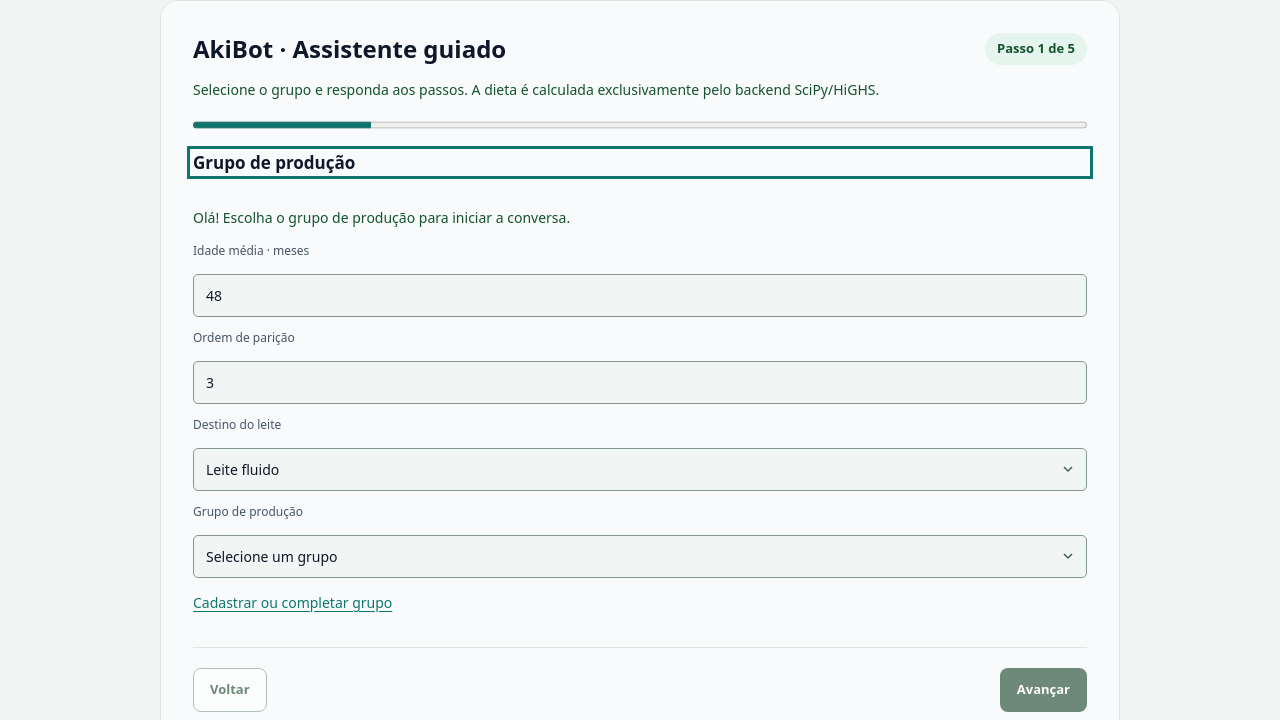
Test case: group is required first and changing it clears consumption and saved context
Expected: the button "Avançar" is disabled, [1000, 668, 1087, 712]
Expected: the field labelled "CMS · kg MS/animal/dia" is not shown
Select "Grupo A · lactacao" in the dropdown labelled "Grupo de produção" at (640, 556), box [193, 535, 1087, 578]
(page scrolled)
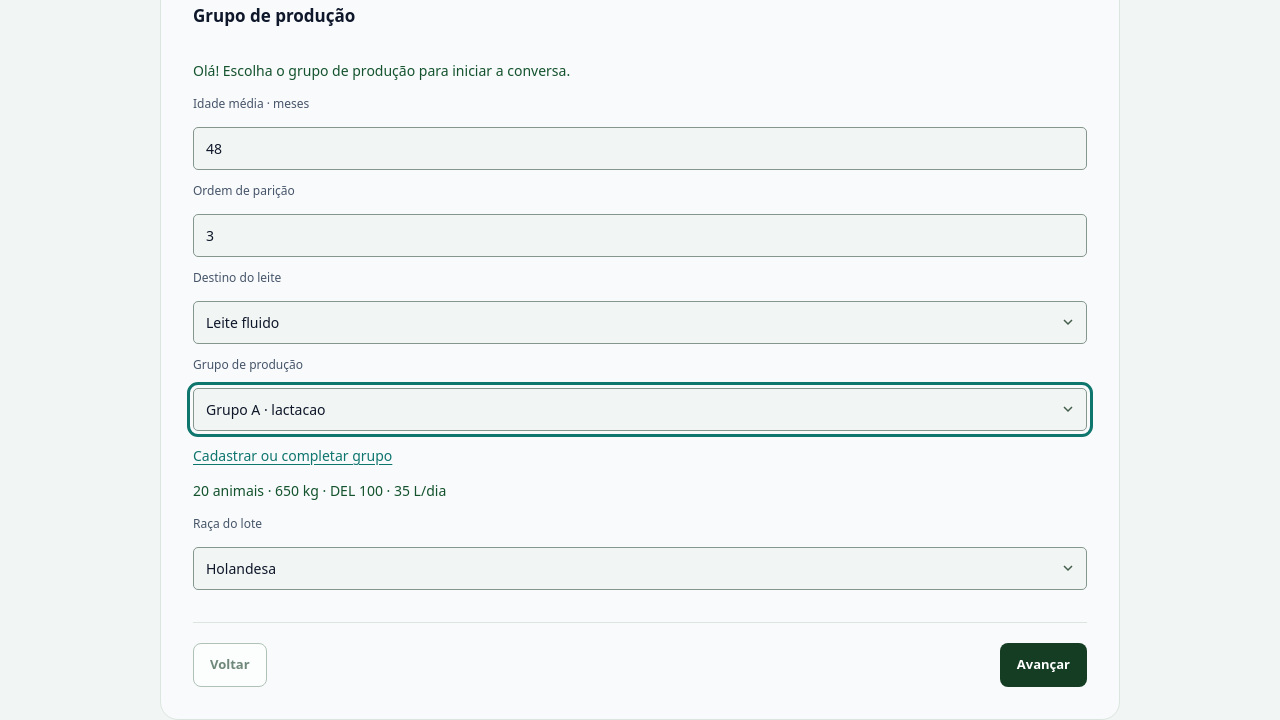
Now the text "20 animais · 650 kg · DEL 100 · 35 L/dia" is shown, box [193, 481, 446, 500]
Click the button "Avançar".
click(1043, 665)  # box [1000, 643, 1087, 687]
(page scrolled)
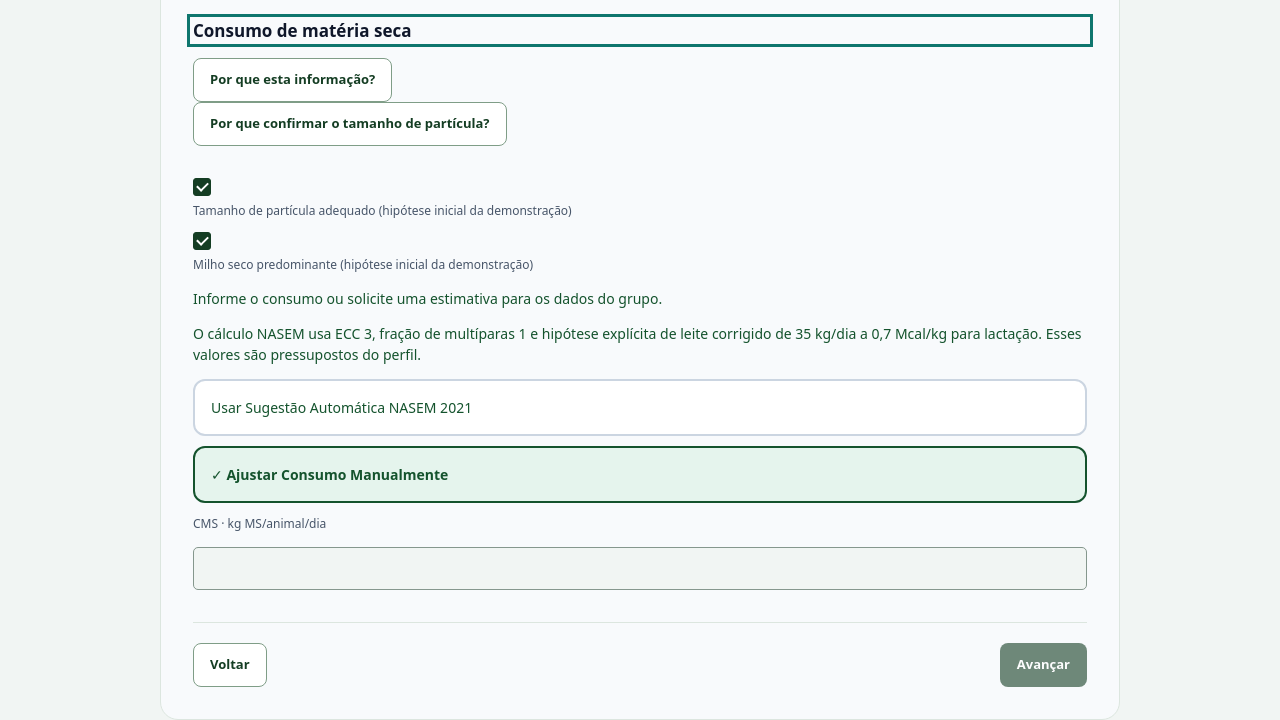
Type "22" into the number field labelled "CMS · kg MS/animal/dia".
click(640, 568); type("22")  # box [193, 547, 1087, 590]
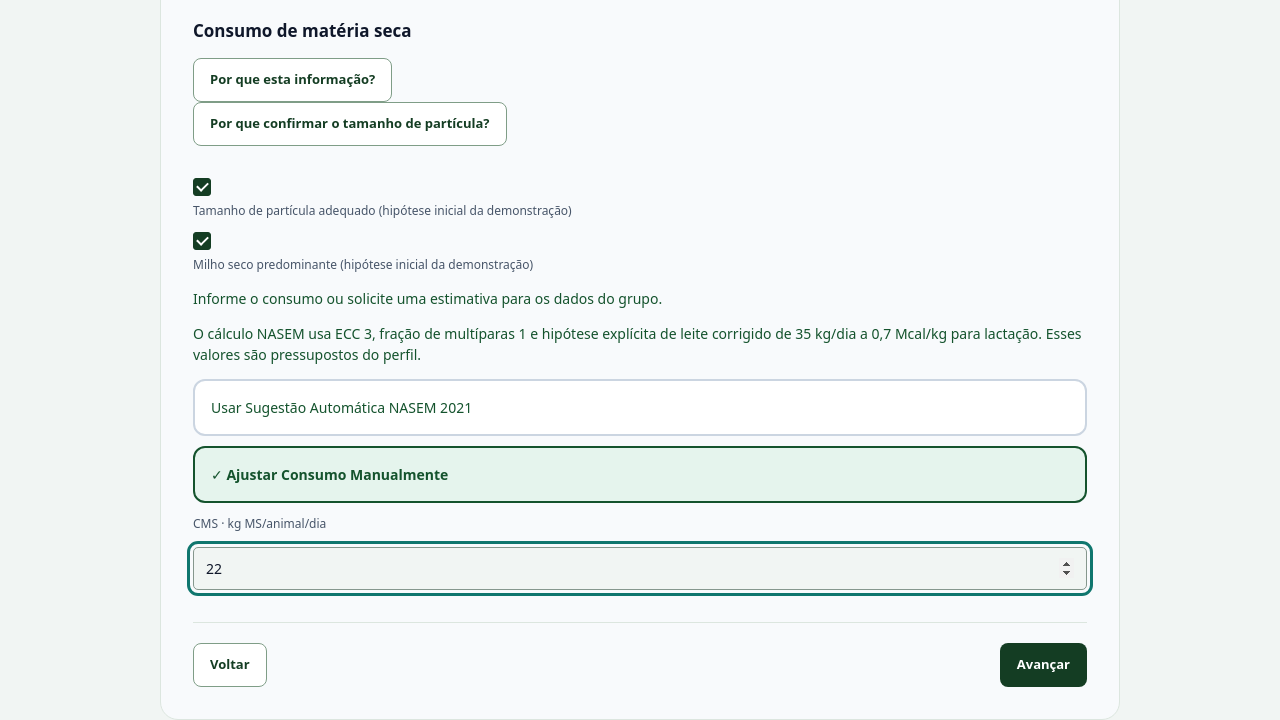
Click the button "Voltar".
click(230, 665)  # box [193, 643, 267, 687]
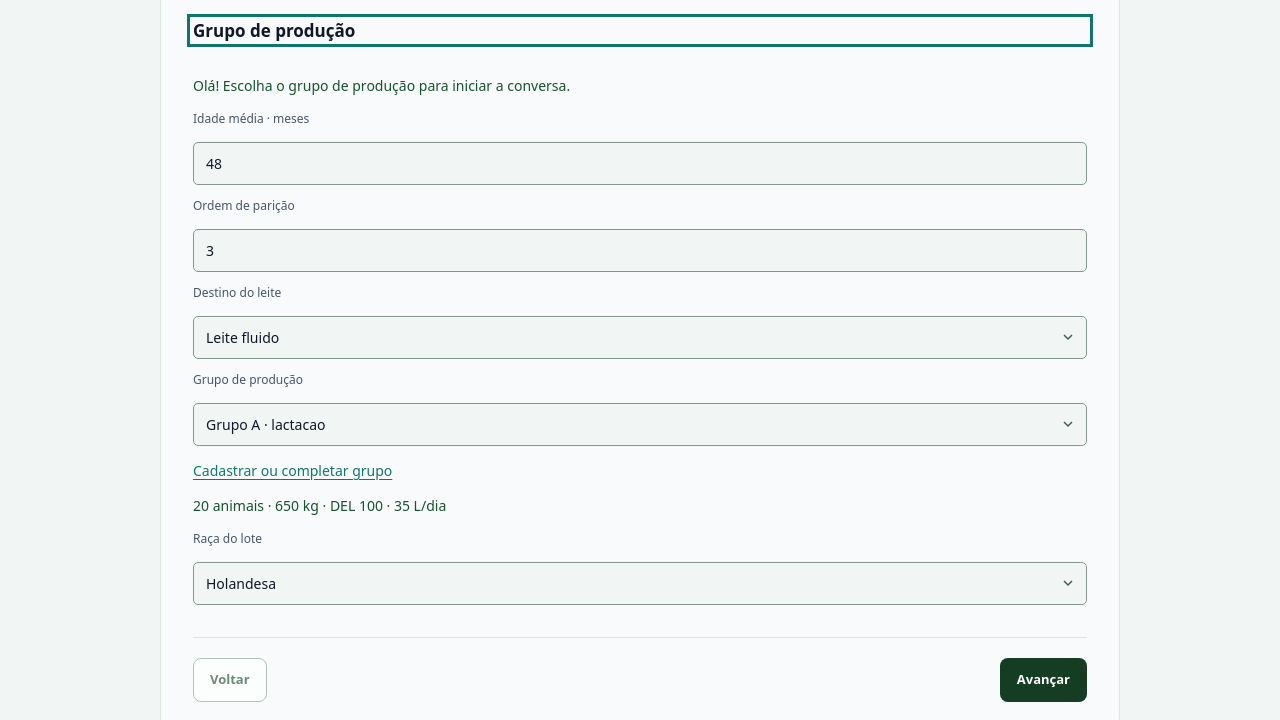
Select "Selecione um grupo" in the dropdown labelled "Grupo de produção" at (640, 424), box [193, 403, 1087, 446]
(page scrolled)
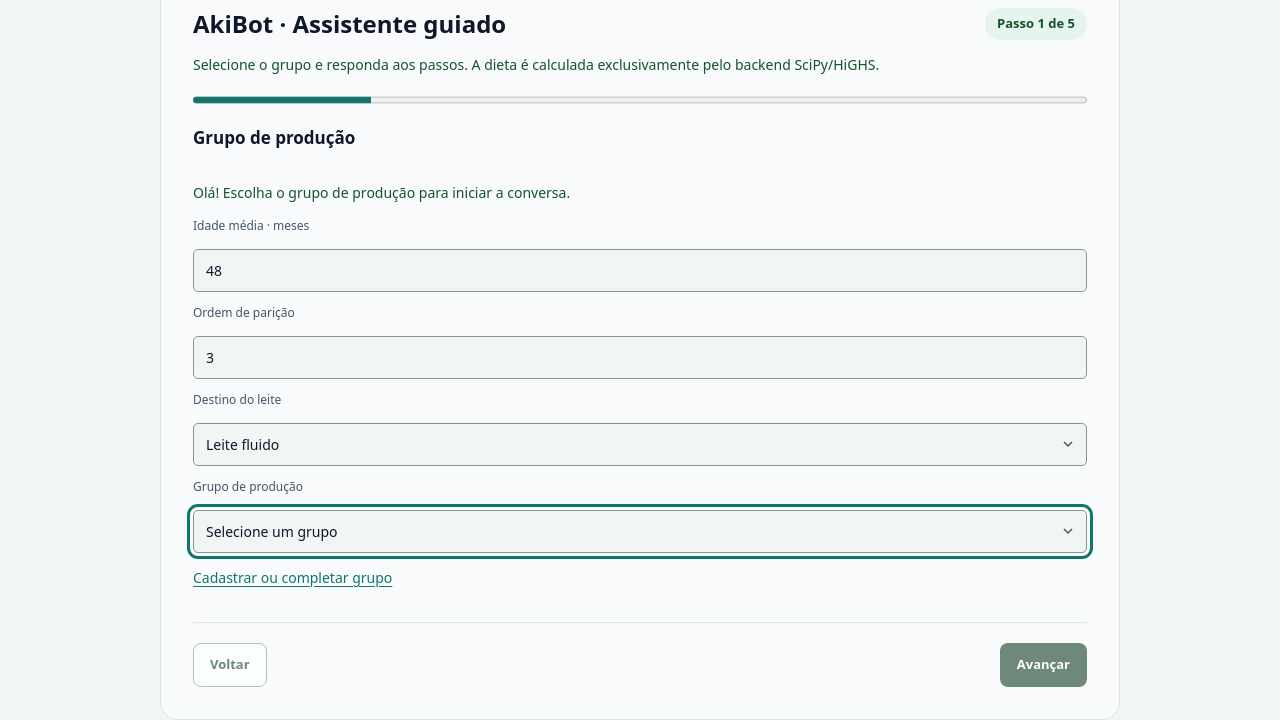
Now the button "Avançar" is disabled, box [1000, 643, 1087, 687]
